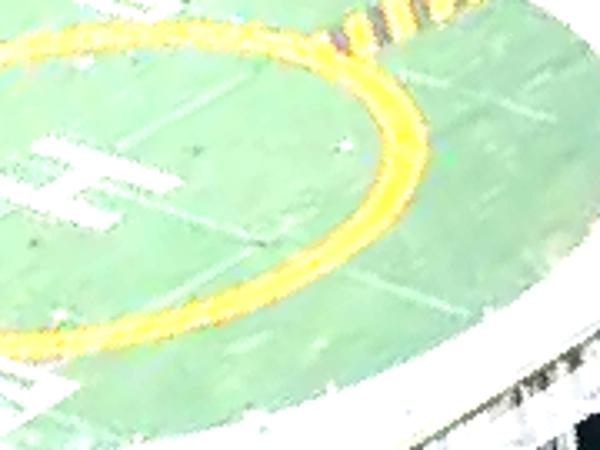Apron: (1, 18, 434, 367)
